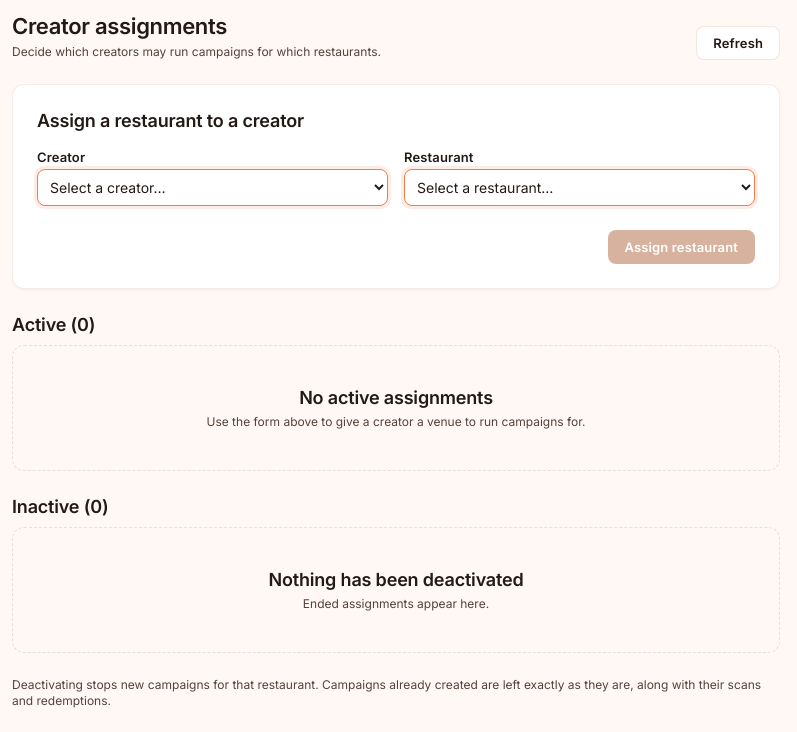
Test case: AdminAssignments › assigns a selected pair and confirms the outcome by name
Select "Asha Rao — @asha · Kochi" in the dropdown labelled "Creator" at (212, 188), box [37,169,388,206]
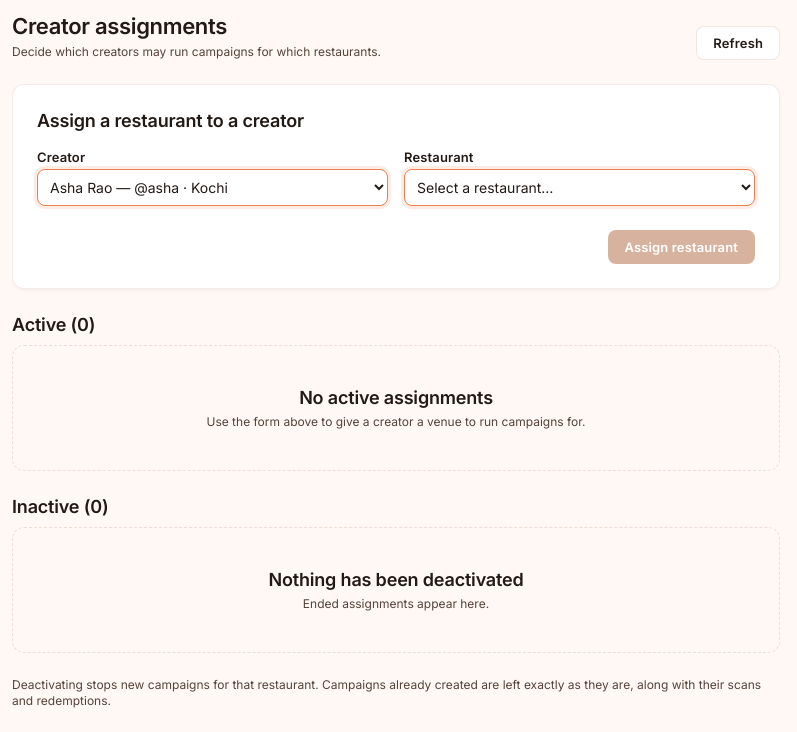
Select "Silver Spoon — Kochi" in the dropdown labelled "Restaurant" at (580, 188), box [404,169,755,206]
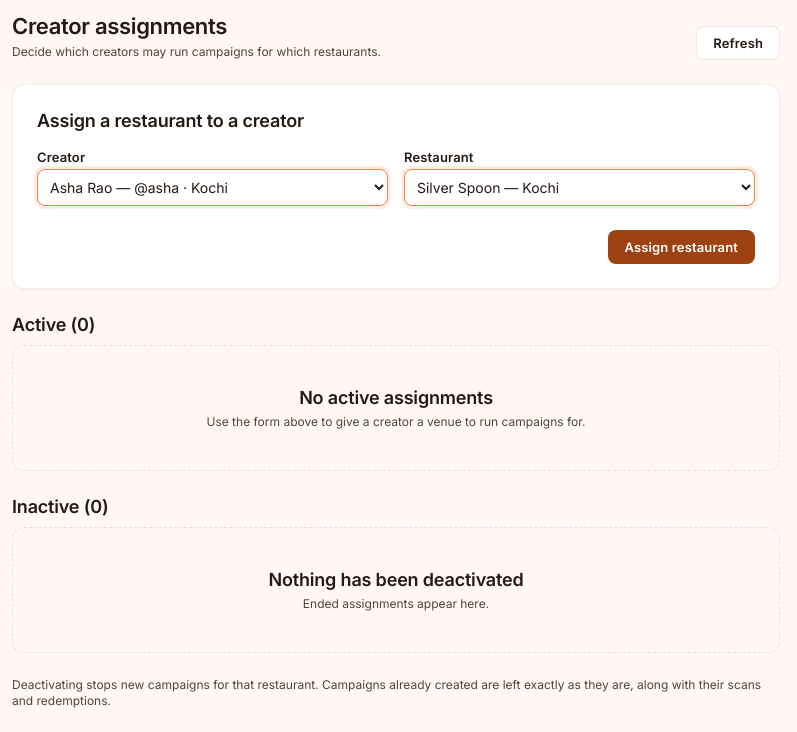
Click the button "Assign restaurant".
click(681, 247)  # box [608,230,755,264]
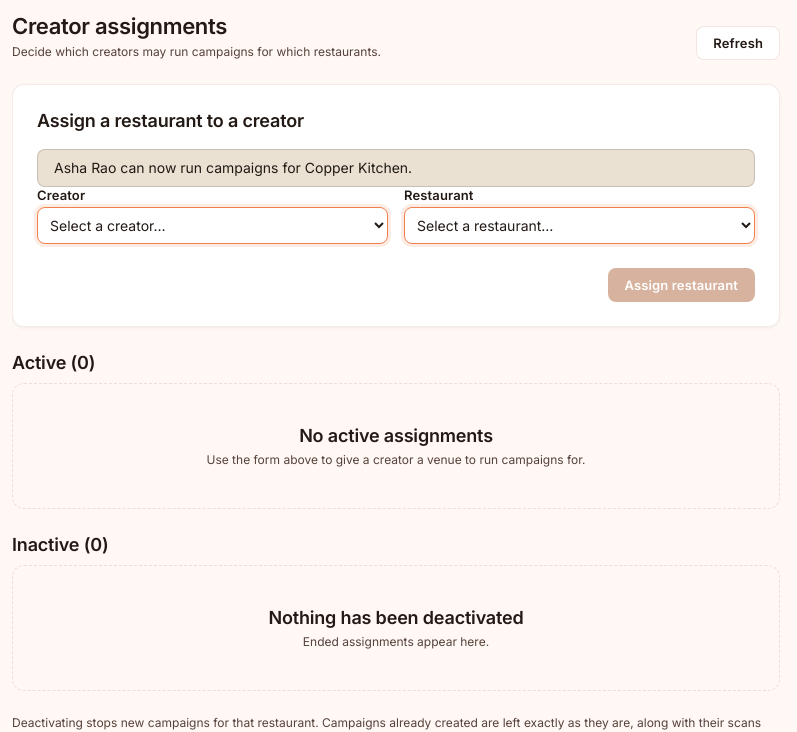
Expected: the text "Asha Rao can now run campaigns for Copper Kitchen." is shown, [37,149,755,187]
